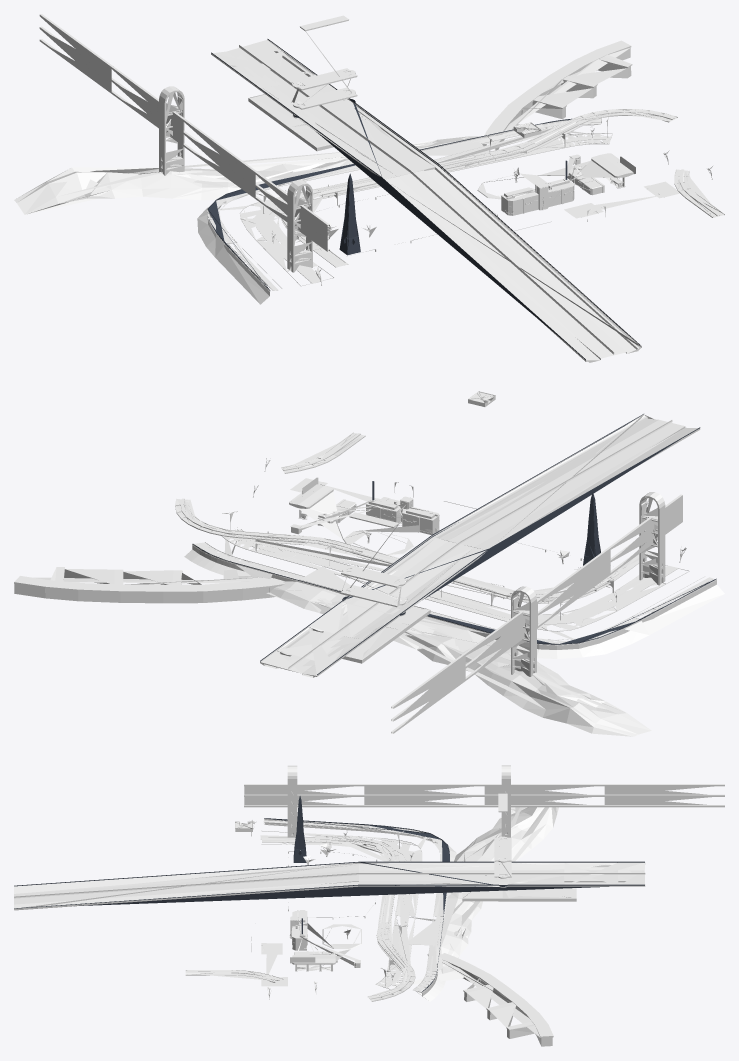
Rendered from street_island1_03.glb.
The picture shows the model from 3 angles, top to bottom: view 1: azimuth 30°, elevation 25°; view 2: azimuth 150°, elevation 25°; view 3: azimuth 270°, elevation 25°; orthographic projection. The views are drawn at different scales.
Parts seen in each view (by area): view 1: seg_607, seg_675, seg_681, seg_683, seg_1337, seg_689, seg_1307, seg_1185, seg_1338, seg_1351, seg_1377, seg_1378 (+12 smaller); view 2: seg_607, seg_675, seg_681, seg_683, seg_689, seg_1337, seg_1307, seg_1185, seg_1351, seg_1338, seg_1377, seg_1082 (+11 smaller); view 3: seg_607, seg_1307, seg_675, seg_681, seg_689, seg_1351, seg_1338, seg_683, seg_1349, seg_1350, seg_1337, seg_603 (+12 smaller).
Part boxes in pixels (box(x1,y1,x2,y2)): seg_607: box(211, 39, 641, 362); seg_675: box(14, 136, 478, 214); seg_681: box(481, 40, 632, 150); seg_683: box(197, 185, 334, 304); seg_1337: box(477, 153, 633, 215); seg_689: box(278, 118, 612, 198); seg_1307: box(211, 39, 640, 359); seg_1185: box(291, 15, 357, 109); seg_1338: box(183, 119, 257, 198); seg_1351: box(39, 14, 113, 93); seg_1377: box(287, 180, 312, 272); seg_1378: box(159, 86, 184, 175); seg_607: box(260, 414, 700, 677); seg_675: box(266, 579, 651, 736); seg_681: box(14, 567, 294, 603); seg_683: box(488, 565, 724, 658); seg_689: box(184, 529, 510, 637); seg_1337: box(289, 484, 439, 555); seg_1307: box(260, 414, 700, 674); seg_1185: box(341, 512, 407, 607); seg_1351: box(391, 653, 465, 733); seg_1338: box(537, 547, 610, 627); seg_1377: box(639, 492, 665, 585); seg_1082: box(237, 532, 513, 598); seg_607: box(14, 862, 645, 910); seg_1307: box(14, 861, 644, 908); seg_675: box(435, 800, 558, 958); seg_681: box(427, 953, 553, 1046); seg_689: box(375, 892, 463, 1001); seg_1351: box(604, 784, 724, 807); seg_1338: box(364, 784, 484, 807); seg_683: box(260, 818, 456, 861); seg_1349: box(244, 784, 364, 807); seg_1350: box(484, 784, 604, 807); seg_1337: box(289, 910, 361, 967); seg_603: box(14, 872, 645, 898).
Bounding box in the file's own units: 447 × 91.54 × 534.
